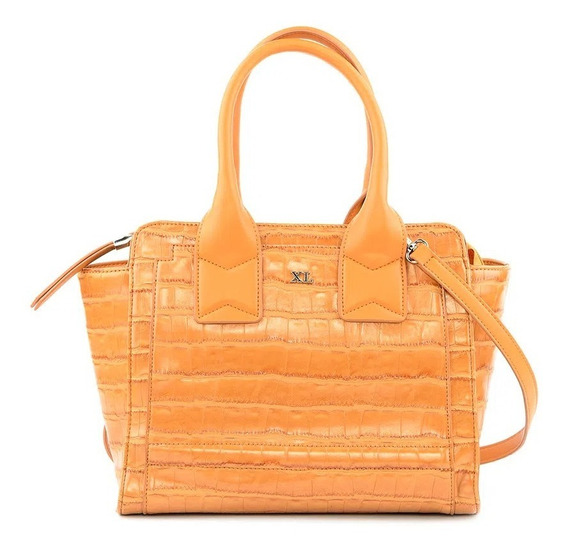cartera: (77, 27, 539, 519)
